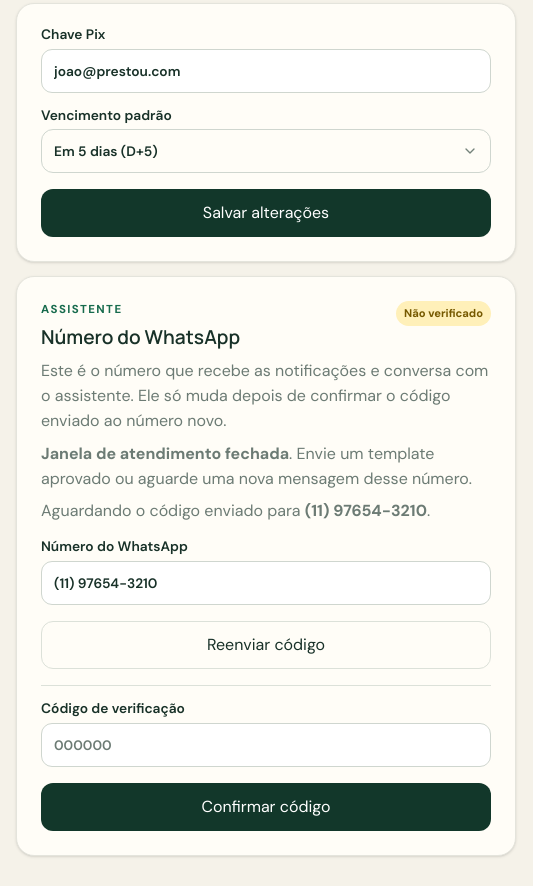
Scenario: número do WhatsApp nas configurações › mantém a confirmação disponível após erro da API e permite tentar novamente
The image size is (533, 886).
(page scrolled)
Type "654321" into the field labelled "Código de verificação" at (266, 745), box [41,723,491,767]
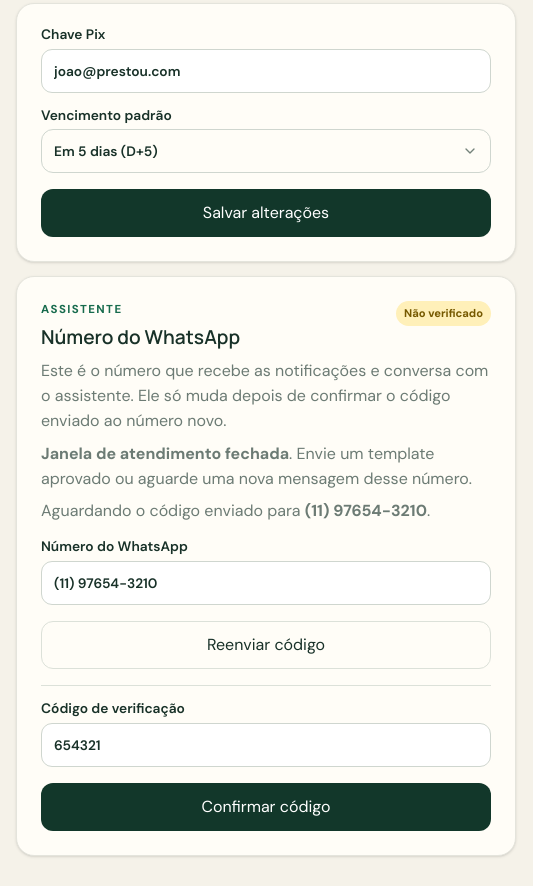
Click the button "Confirmar código" at (266, 807), box [41,783,491,831]
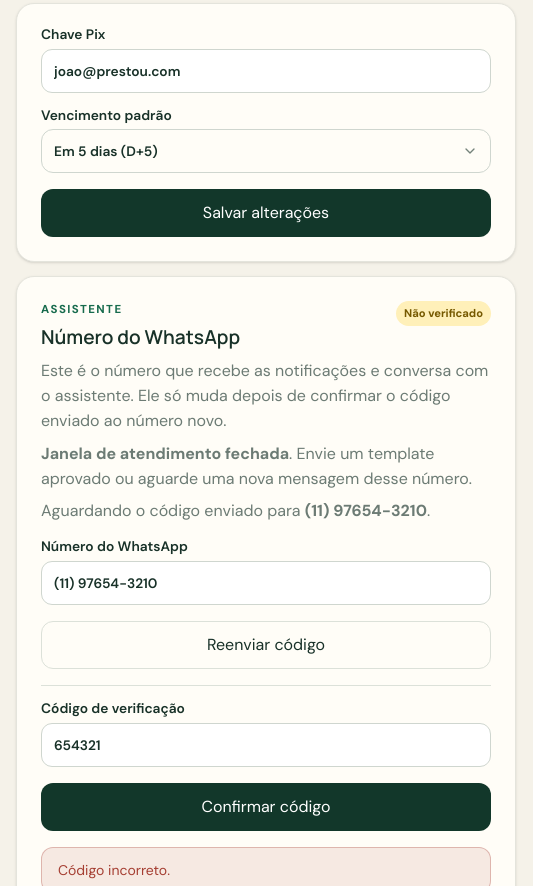
Check: the text "Código incorreto." is shown, box [58,861,170,879]
Click the button "Confirmar código" at (266, 807), box [41,783,491,831]
(page scrolled)
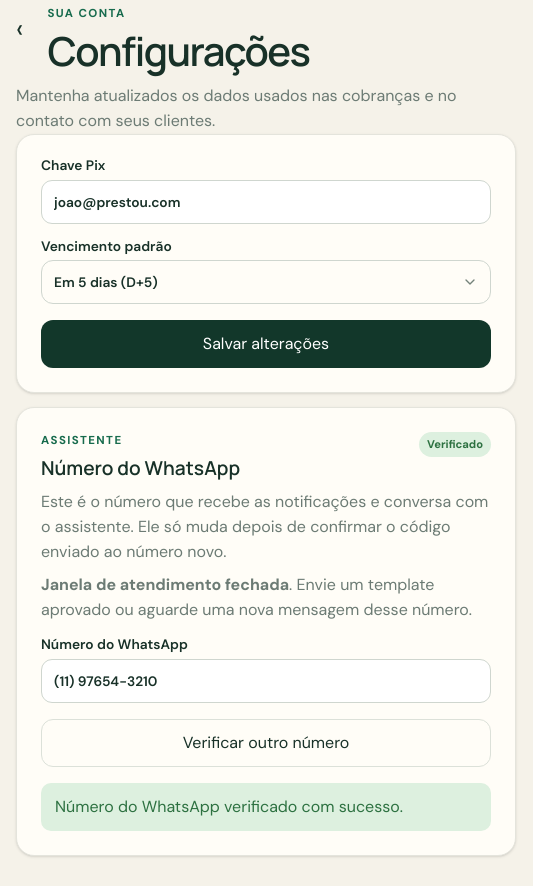
Check: the text "Número do WhatsApp verificado com sucesso." is shown, box [41,783,491,831]
